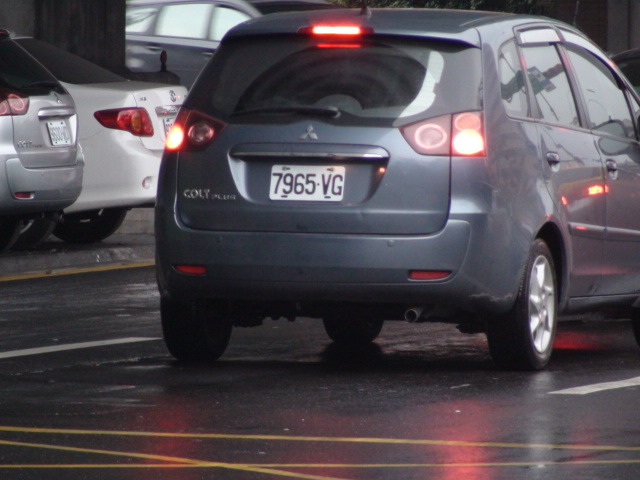plate: (267, 159, 349, 205)
